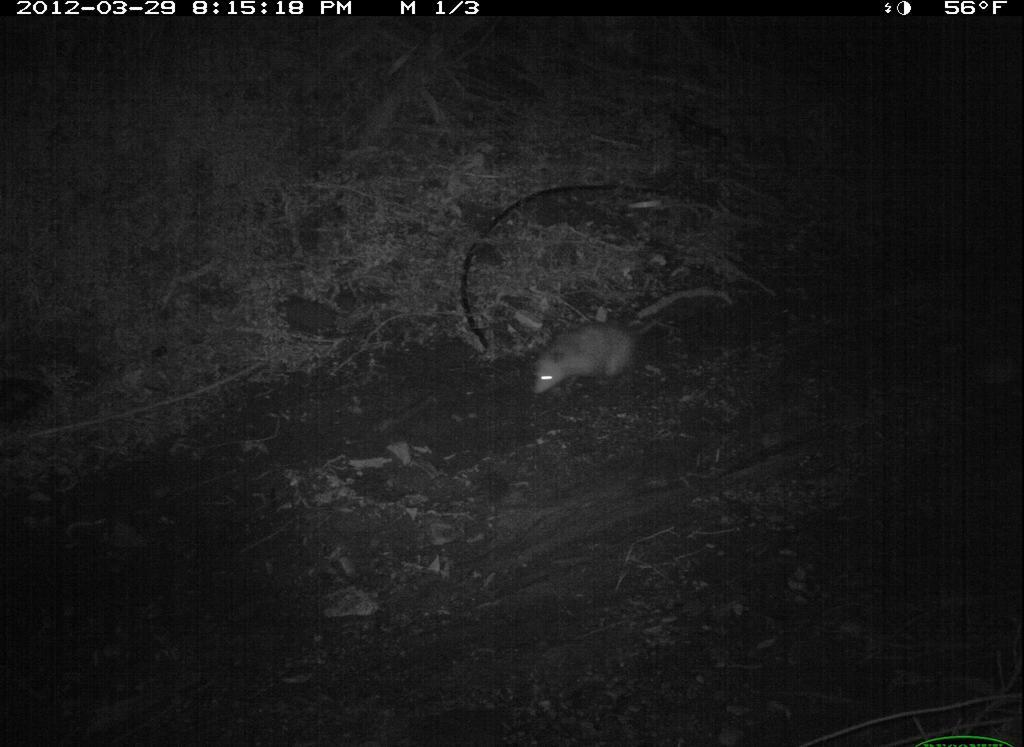opossum: (523, 308, 683, 409)
